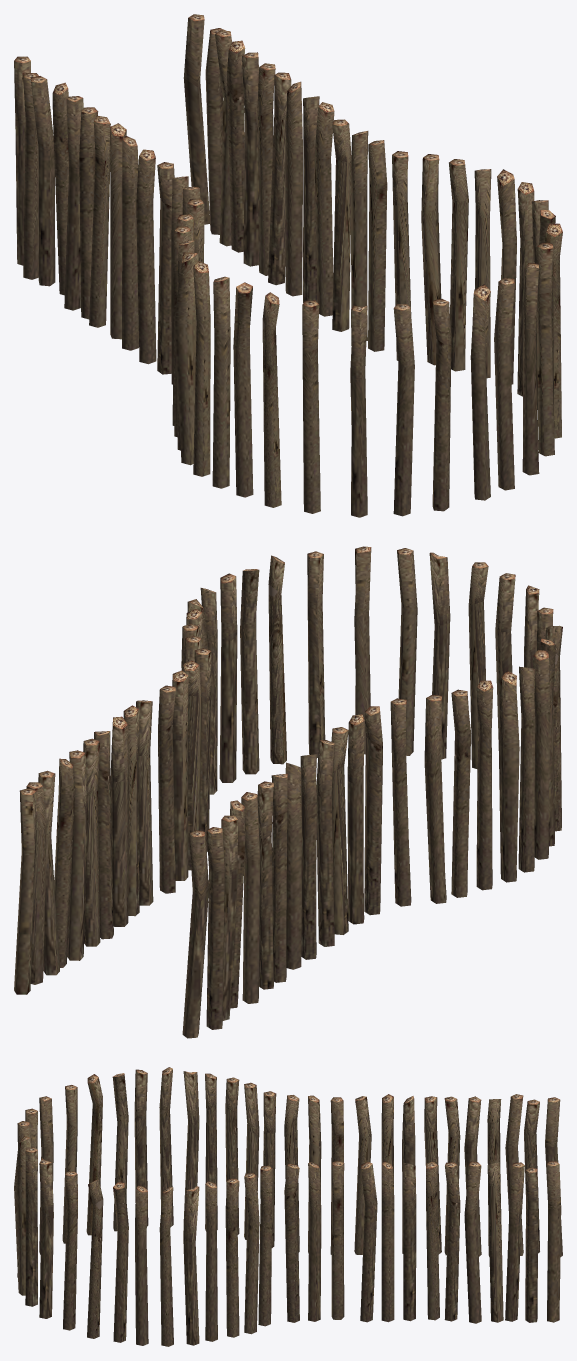
File: found_celt_dock.dae
The picture shows the model from 3 angles, top to bottom: view 1: azimuth 30°, elevation 25°; view 2: azimuth 150°, elevation 25°; view 3: azimuth 270°, elevation 25°; orthographic projection. The views are drawn at different scales.
Parts seen in each view (by area): view 1: dock_foundation; view 2: dock_foundation; view 3: dock_foundation.
Boxes of the visible parts, box(x1,y1,x2,y2) form: dock_foundation: box(14, 14, 562, 517); dock_foundation: box(14, 546, 562, 1038); dock_foundation: box(14, 1067, 562, 1346).
Bounding box in the file's own units: 12.62 × 7.47 × 23.37.
